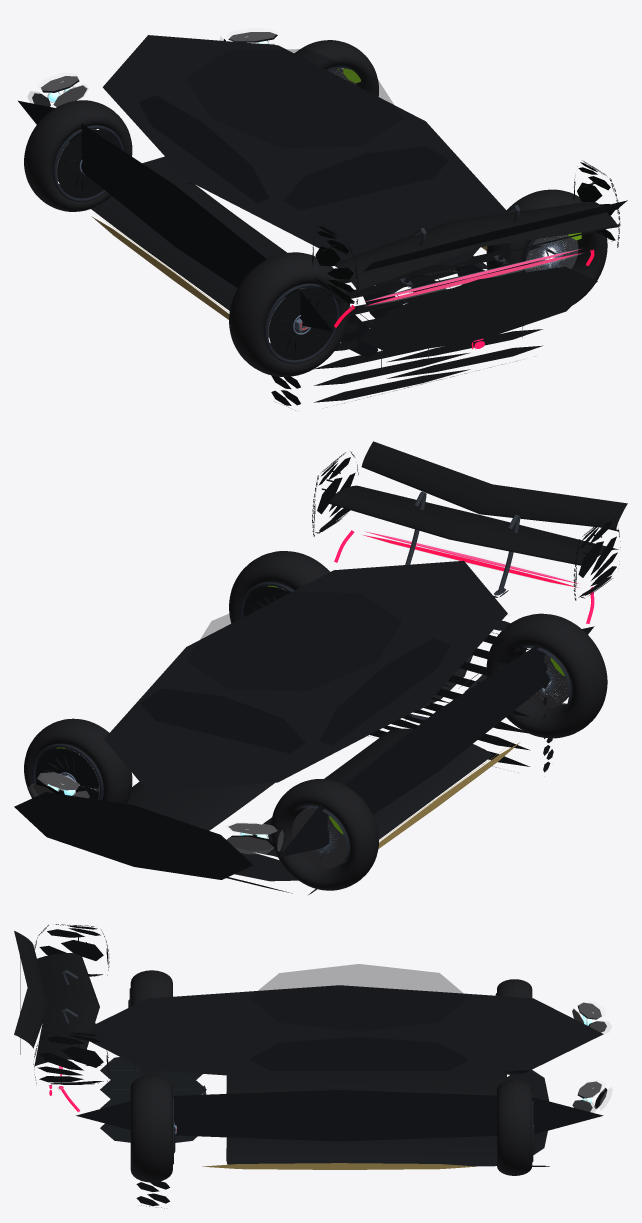
Rendered from vehicle_time_attack_carbon_phantom.glb.
3 views of the same model, one above another, from view 1: azimuth 30°, elevation 25°; view 2: azimuth 150°, elevation 25°; view 3: azimuth 270°, elevation 25° (orthographic). The views are drawn at different scales.
Visible parts, largest first — view 1: TIME_ATTACK_CARBON_PHANTOM, ACTIVE_VENTURI_UNDERBODY_FLOOR, ACTIVE_GURNEY_FLAP_LIP, MICHELIN_CUP_2R_TRACK_TIRE.002, MICHELIN_CUP_2R_TRACK_TIRE, FRONT_MATRIX_HEADLIGHT_CLUSTER, MICHELIN_CUP_2R_TRACK_TIRE.003, AERO_TURBOFAN_COVER.002, AERODYNAMIC_ENDPLATE_ASSEMBLY, MICHELIN_CUP_2R_TRACK_TIRE.001, AERO_TURBOFAN_COVER, REAR_OLED_LIGHT_BLADE_ASSEMBLY (+7 smaller); view 2: TIME_ATTACK_CARBON_PHANTOM, ACTIVE_GURNEY_FLAP_LIP, ACTIVE_VENTURI_UNDERBODY_FLOOR, MICHELIN_CUP_2R_TRACK_TIRE.002, MICHELIN_CUP_2R_TRACK_TIRE, MICHELIN_CUP_2R_TRACK_TIRE.001, FRONT_MATRIX_HEADLIGHT_CLUSTER, MICHELIN_CUP_2R_TRACK_TIRE.003, AERODYNAMIC_ENDPLATE_ASSEMBLY, AERO_TURBOFAN_COVER.001, REAR_OLED_LIGHT_BLADE_ASSEMBLY, FLOATING_CSIC_BRAKE_ROTOR (+5 smaller); view 3: TIME_ATTACK_CARBON_PHANTOM, ACTIVE_VENTURI_UNDERBODY_FLOOR, ACTIVE_GURNEY_FLAP_LIP, MICHELIN_CUP_2R_TRACK_TIRE.003, MICHELIN_CUP_2R_TRACK_TIRE.001, AERODYNAMIC_ENDPLATE_ASSEMBLY, DIFFUSER_STRAKE_1, FRONT_MATRIX_HEADLIGHT_CLUSTER, SEALING_SKIRT_LEFT, MICHELIN_CUP_2R_TRACK_TIRE.002, MICHELIN_CUP_2R_TRACK_TIRE.
Part boxes in pixels (x1=…): TIME_ATTACK_CARBON_PHANTOM: x1=18, y1=35, x2=597, y2=353; ACTIVE_VENTURI_UNDERBODY_FLOOR: x1=91, y1=156, x2=542, y2=410; ACTIVE_GURNEY_FLAP_LIP: x1=334, y1=200, x2=627, y2=290; MICHELIN_CUP_2R_TRACK_TIRE.002: x1=229, y1=252, x2=349, y2=376; MICHELIN_CUP_2R_TRACK_TIRE: x1=24, y1=100, x2=132, y2=211; FRONT_MATRIX_HEADLIGHT_CLUSTER: x1=27, y1=28, x2=582, y2=310; MICHELIN_CUP_2R_TRACK_TIRE.003: x1=486, y1=189, x2=607, y2=304; AERO_TURBOFAN_COVER.002: x1=269, y1=288, x2=335, y2=359; AERODYNAMIC_ENDPLATE_ASSEMBLY: x1=312, y1=160, x2=620, y2=311; MICHELIN_CUP_2R_TRACK_TIRE.001: x1=294, y1=40, x2=378, y2=96; AERO_TURBOFAN_COVER: x1=57, y1=130, x2=119, y2=198; REAR_OLED_LIGHT_BLADE_ASSEMBLY: x1=334, y1=249, x2=594, y2=349; TIME_ATTACK_CARBON_PHANTOM: x1=14, y1=560, x2=594, y2=879; ACTIVE_GURNEY_FLAP_LIP: x1=329, y1=441, x2=627, y2=565; ACTIVE_VENTURI_UNDERBODY_FLOOR: x1=127, y1=586, x2=553, y2=894; MICHELIN_CUP_2R_TRACK_TIRE.002: x1=486, y1=613, x2=607, y2=738; MICHELIN_CUP_2R_TRACK_TIRE: x1=270, y1=779, x2=378, y2=890; MICHELIN_CUP_2R_TRACK_TIRE.001: x1=24, y1=718, x2=132, y2=803; FRONT_MATRIX_HEADLIGHT_CLUSTER: x1=28, y1=531, x2=595, y2=853; MICHELIN_CUP_2R_TRACK_TIRE.003: x1=229, y1=551, x2=329, y2=623; AERODYNAMIC_ENDPLATE_ASSEMBLY: x1=312, y1=451, x2=620, y2=600; AERO_TURBOFAN_COVER.001: x1=35, y1=748, x2=98, y2=799; REAR_OLED_LIGHT_BLADE_ASSEMBLY: x1=334, y1=530, x2=594, y2=623; FLOATING_CSIC_BRAKE_ROTOR: x1=292, y1=807, x2=347, y2=868; TIME_ATTACK_CARBON_PHANTOM: x1=76, y1=964, x2=603, y2=1141; ACTIVE_VENTURI_UNDERBODY_FLOOR: x1=135, y1=1065, x2=549, y2=1208; ACTIVE_GURNEY_FLAP_LIP: x1=14, y1=931, x2=99, y2=1066; MICHELIN_CUP_2R_TRACK_TIRE.003: x1=130, y1=1075, x2=172, y2=1182; MICHELIN_CUP_2R_TRACK_TIRE.001: x1=497, y1=1080, x2=532, y2=1175; AERODYNAMIC_ENDPLATE_ASSEMBLY: x1=33, y1=924, x2=109, y2=1085; DIFFUSER_STRAKE_1: x1=100, y1=1057, x2=206, y2=1142; FRONT_MATRIX_HEADLIGHT_CLUSTER: x1=57, y1=1001, x2=612, y2=1112; SEALING_SKIRT_LEFT: x1=202, y1=1163, x2=476, y2=1169; MICHELIN_CUP_2R_TRACK_TIRE.002: x1=130, y1=970, x2=172, y2=1006; MICHELIN_CUP_2R_TRACK_TIRE: x1=497, y1=979, x2=532, y2=1074.
Size of the model in its own units: 2.75 by 1.5 by 4.74.
